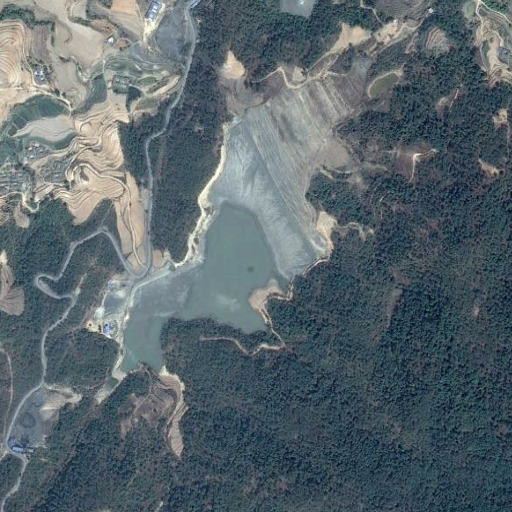tp: (118, 67, 368, 378)
